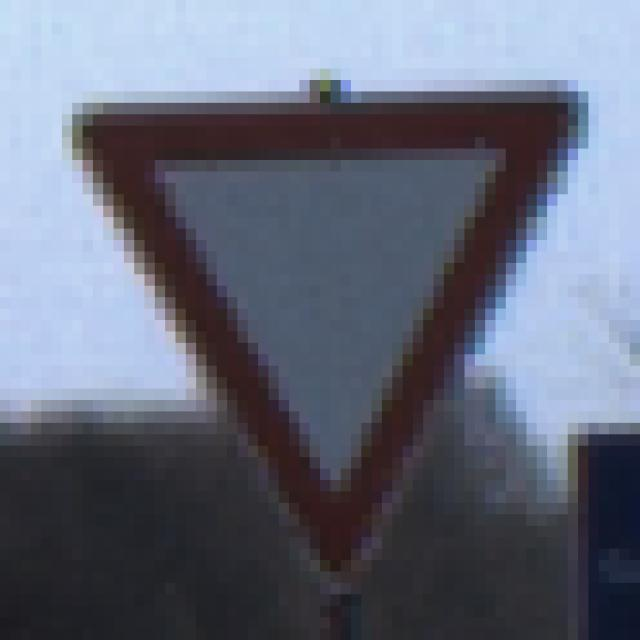Give Way: (53, 69, 590, 584)
